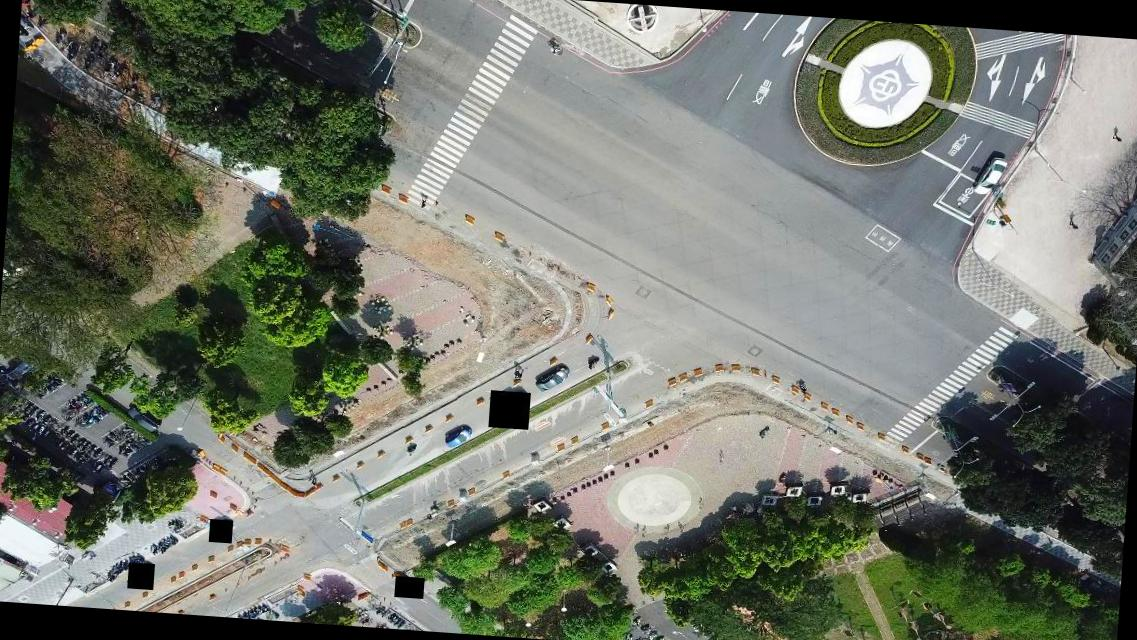vehicle: (974, 154, 1008, 196), (534, 363, 569, 394), (125, 408, 163, 432), (6, 355, 36, 382), (445, 426, 472, 450)
